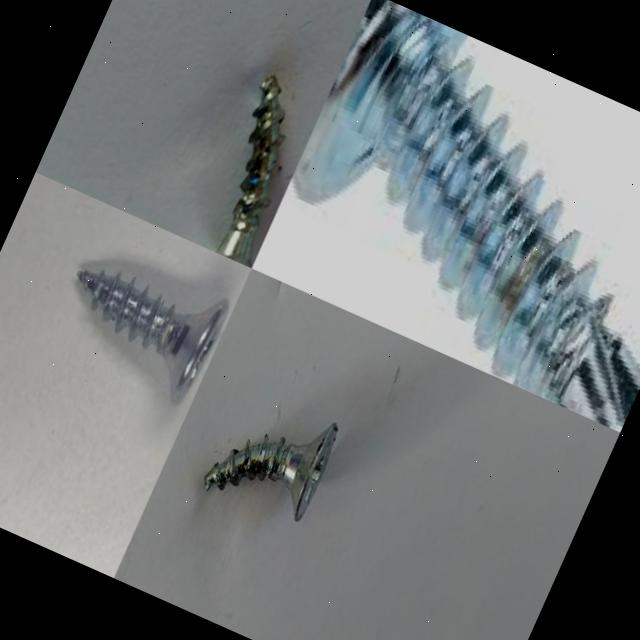Screw: (293, 0, 640, 433), (42, 236, 234, 410), (216, 75, 285, 269), (205, 422, 338, 521)
